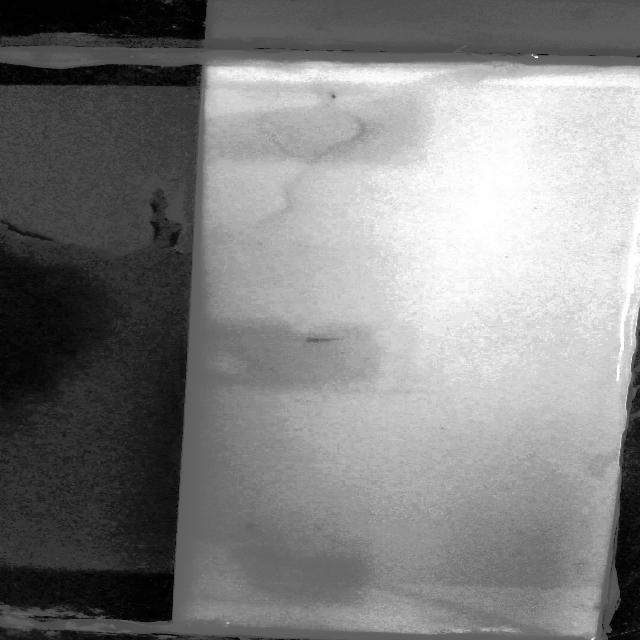shrimp: (289, 332, 349, 347), (232, 518, 268, 535), (315, 86, 346, 103)
